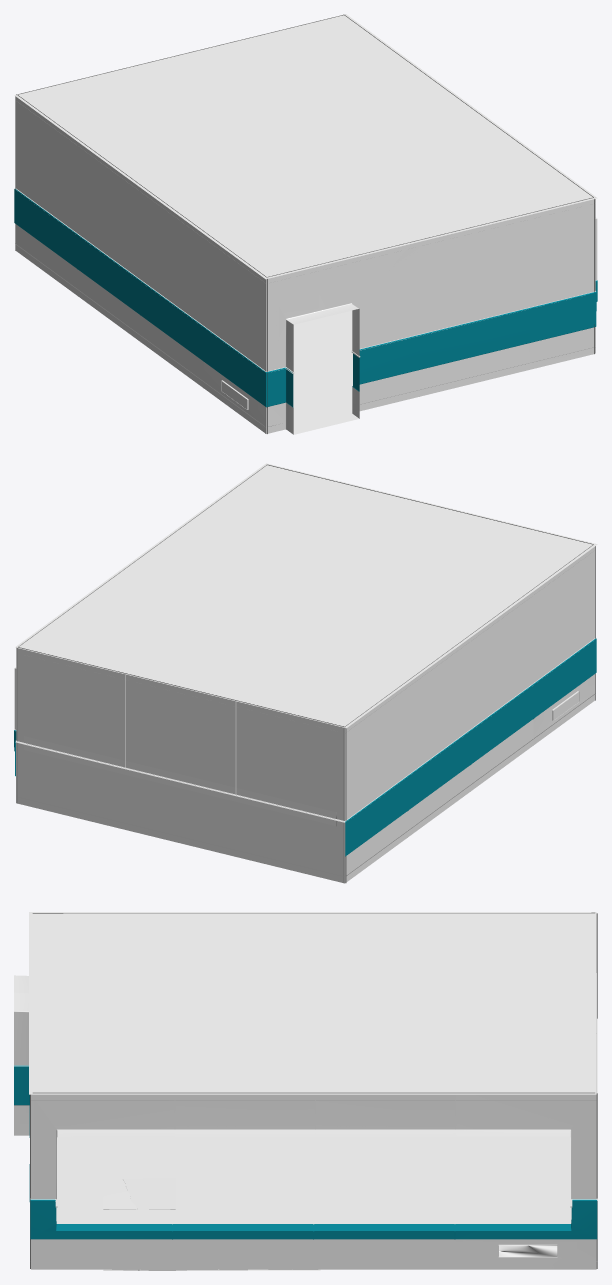
3 renders of one model, top to bottom at view 1: azimuth 30°, elevation 25°; view 2: azimuth 150°, elevation 25°; view 3: azimuth 270°, elevation 25°, orthographic. The views are drawn at different scales.
Visible parts, largest first — view 1: SM_H_Building_FutureTech_HLight_01_InterWall_07; view 2: SM_H_Building_FutureTech_HLight_01_InterWall_07; view 3: SM_H_Building_FutureTech_HLight_01_InterWall_07.
Part boxes in pixels (left/top/right/bottom): SM_H_Building_FutureTech_HLight_01_InterWall_07: left=14, top=14, right=597, bottom=434; SM_H_Building_FutureTech_HLight_01_InterWall_07: left=14, top=463, right=597, bottom=883; SM_H_Building_FutureTech_HLight_01_InterWall_07: left=14, top=912, right=597, bottom=1270.
Size of the model in its own units: 393 by 301 by 132.
